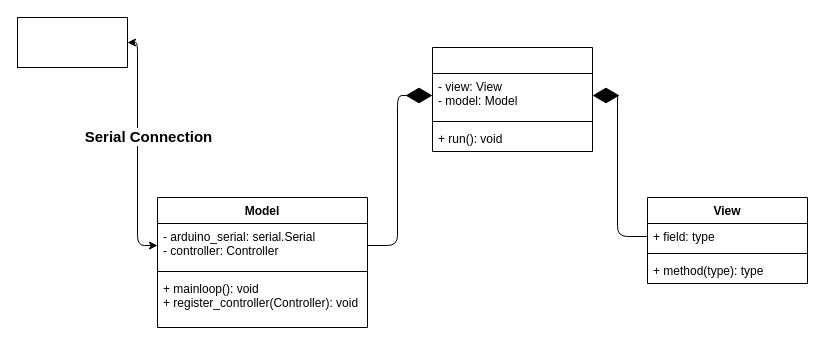
Image size: 825x348. Some labels were removed from this diagram. The box of each missing label's shape, as (x1, y1, x2, y2) in pixels:
Arduino: (16, 16, 128, 68)
Controller: (432, 46, 592, 152)
